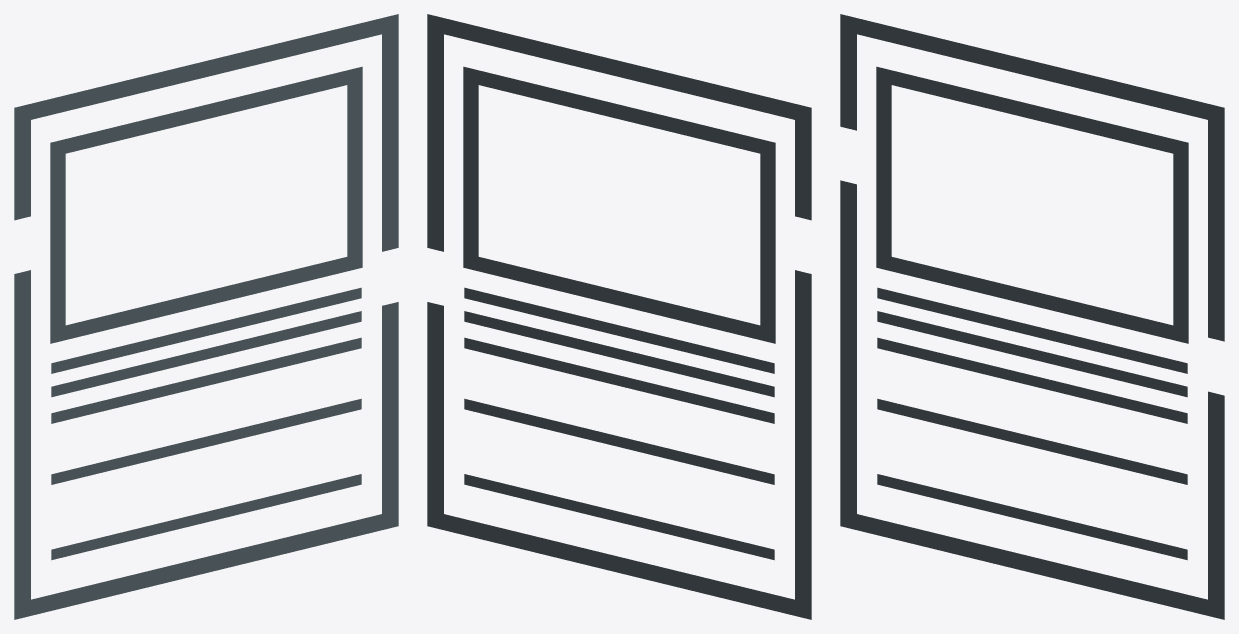
Rendered from Virtual Screen 01.FBX.
The picture shows the model from 3 angles, left to right: view 1: azimuth 30°, elevation 25°; view 2: azimuth 150°, elevation 25°; view 3: azimuth 330°, elevation 25°; orthographic projection.
Visible parts, largest first — view 1: Virtual Screen 01; view 2: Virtual Screen 01; view 3: Virtual Screen 01.
Boxes of the visible parts, x1,y1,x2,y2 form: Virtual Screen 01: [14, 14, 398, 619]; Virtual Screen 01: [427, 14, 811, 619]; Virtual Screen 01: [840, 14, 1224, 619].
Bounding box in the file's own units: 83.31 × 106 × 4.58e-05.
